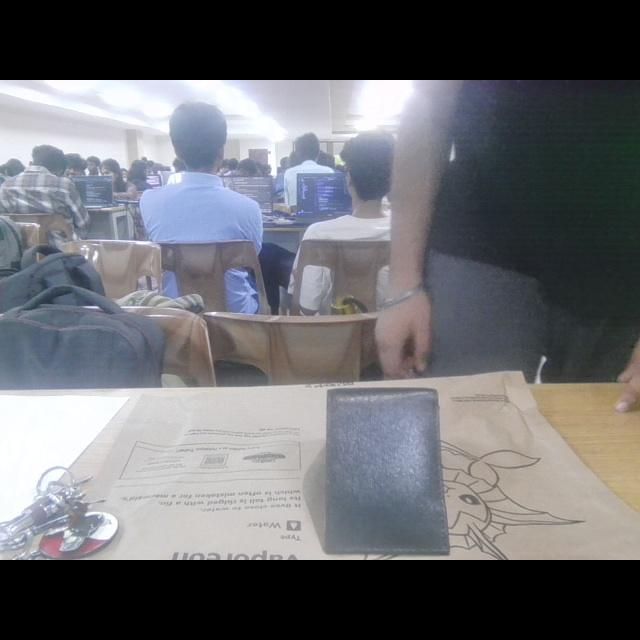keys: (0, 456, 130, 560)
wallet: (306, 368, 484, 560)
